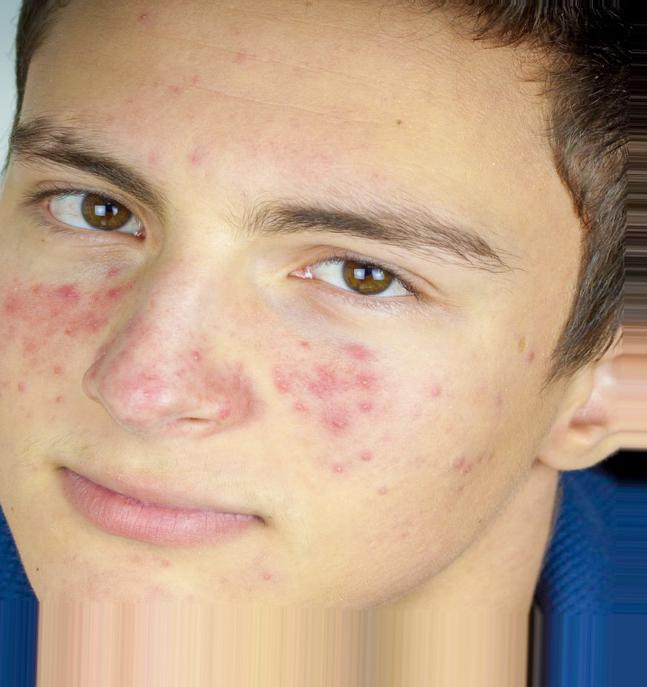Acne: (283, 361, 382, 440), (23, 286, 105, 365), (111, 381, 195, 426)
